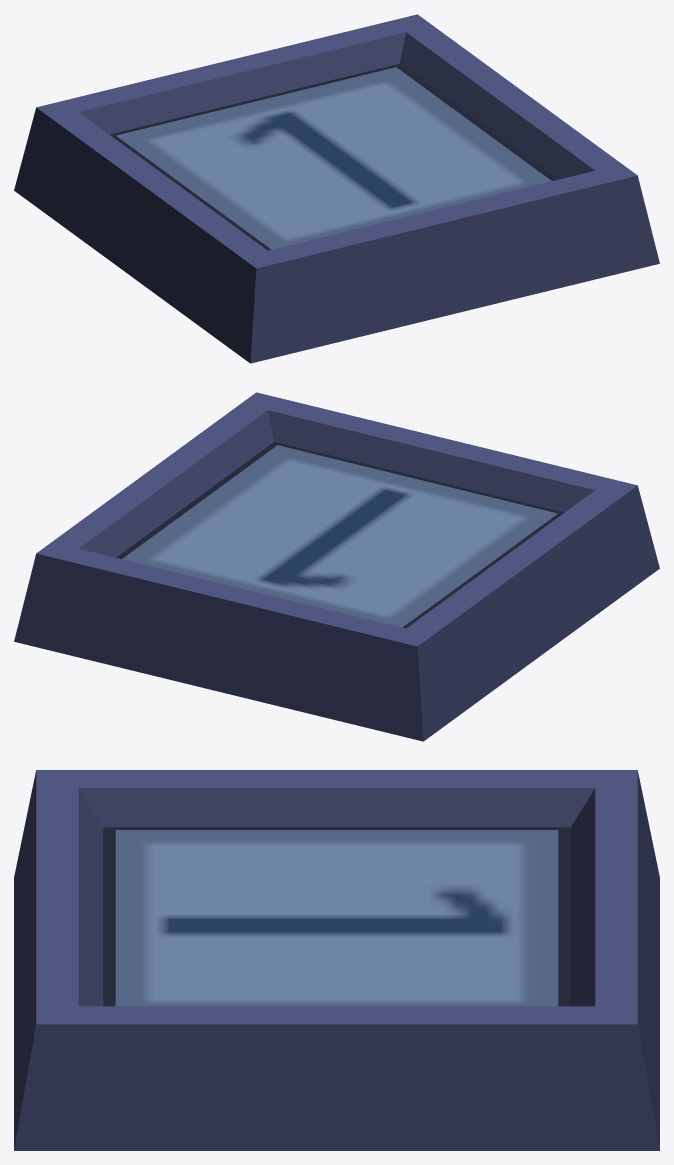
File: Keypad.fbx
The picture shows the model from 3 angles, top to bottom: view 1: azimuth 30°, elevation 25°; view 2: azimuth 150°, elevation 25°; view 3: azimuth 270°, elevation 25°; orthographic projection. The views are drawn at different scales.
Visible parts, largest first — view 1: Keypad1; view 2: Keypad1; view 3: Keypad1.
Part boxes in pixels (x1,y1,x2,y2): Keypad1: (14, 14, 659, 363); Keypad1: (14, 392, 659, 741); Keypad1: (14, 770, 659, 1150).
Size of the model in its own units: 50 by 10 by 50.
